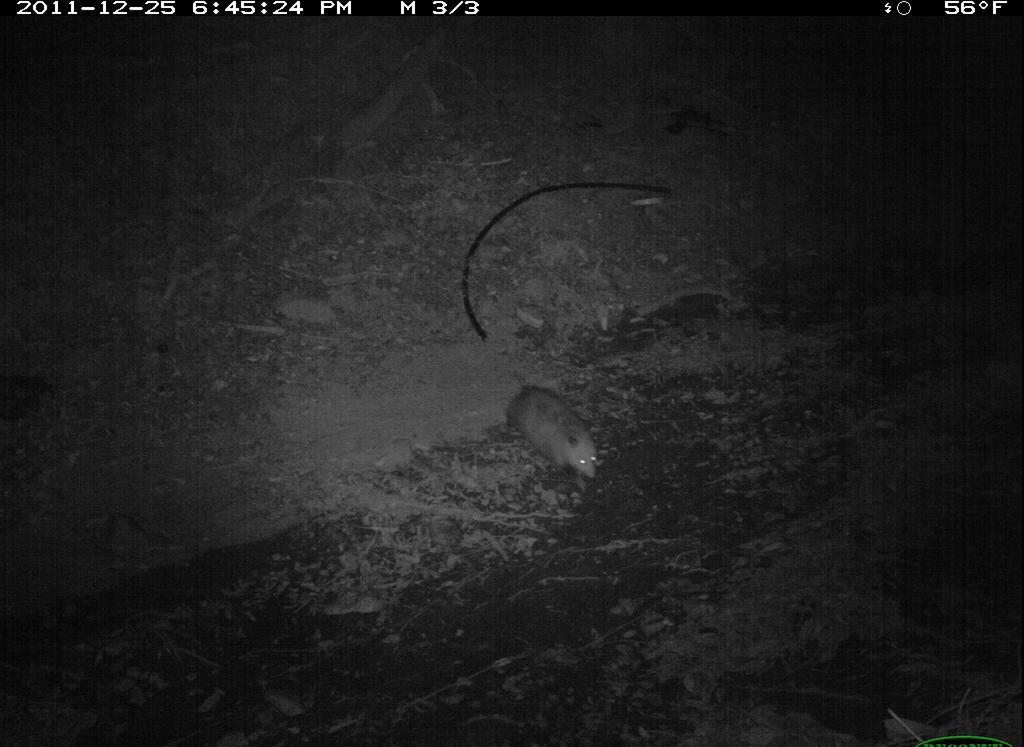opossum: (501, 370, 609, 479)
